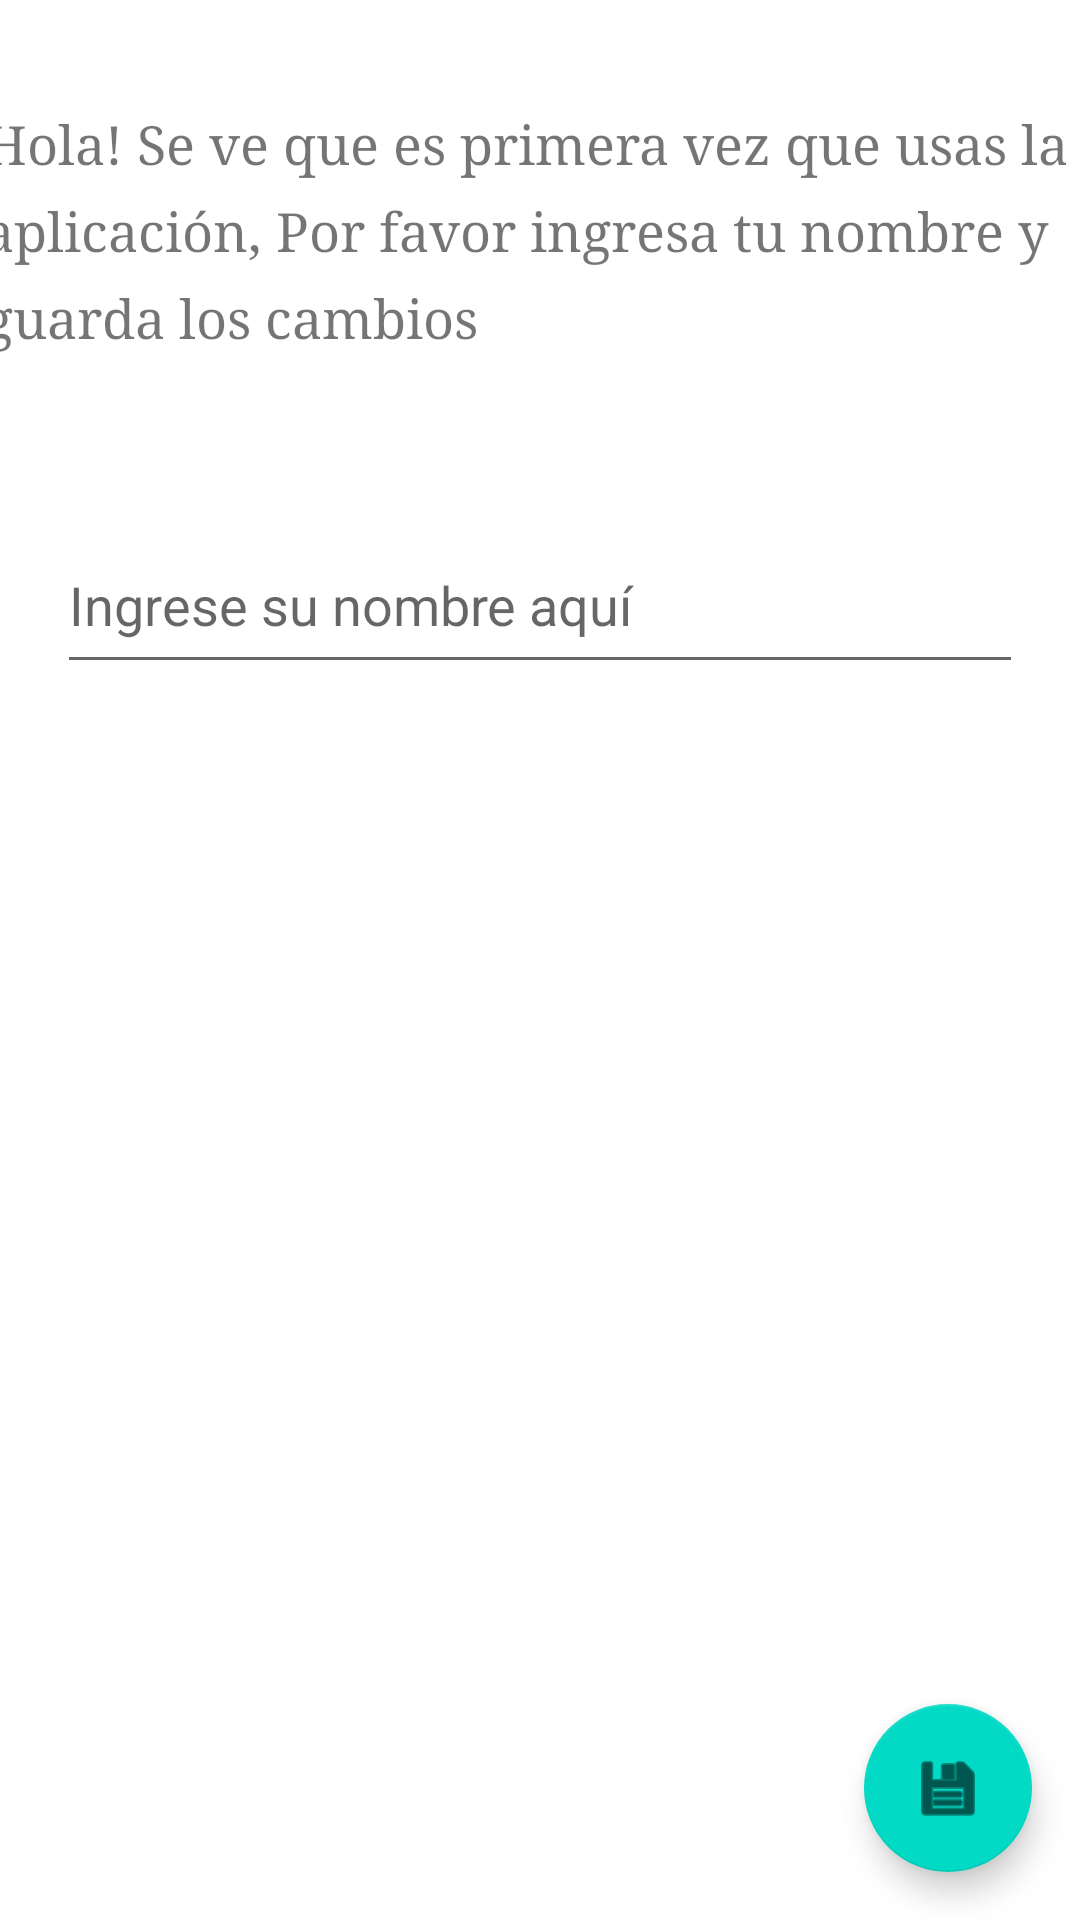

Icons on this 1080 x 1920 Android screen, each with its box as (x1, y1, x2, y2):
save: (864, 1704, 1032, 1872)
